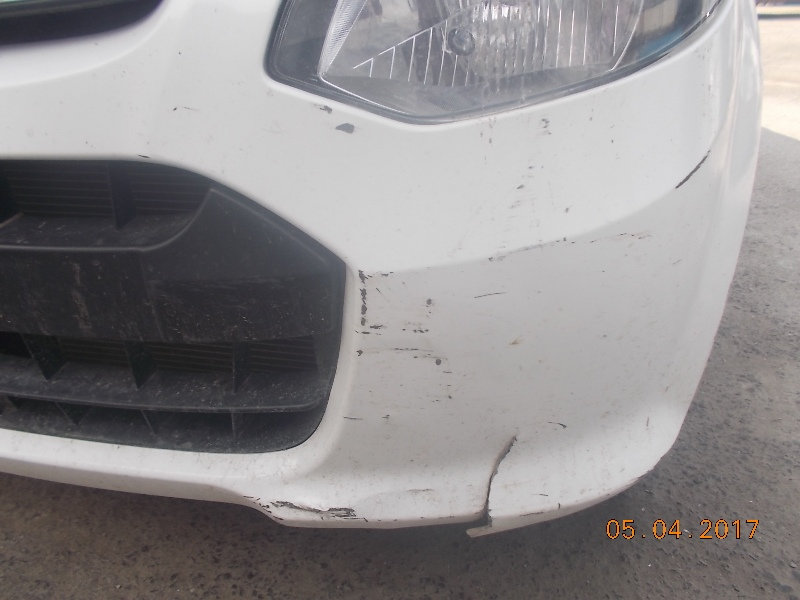Scratch_or_spot: (353, 261, 374, 339)
Tear: (468, 417, 522, 541)
